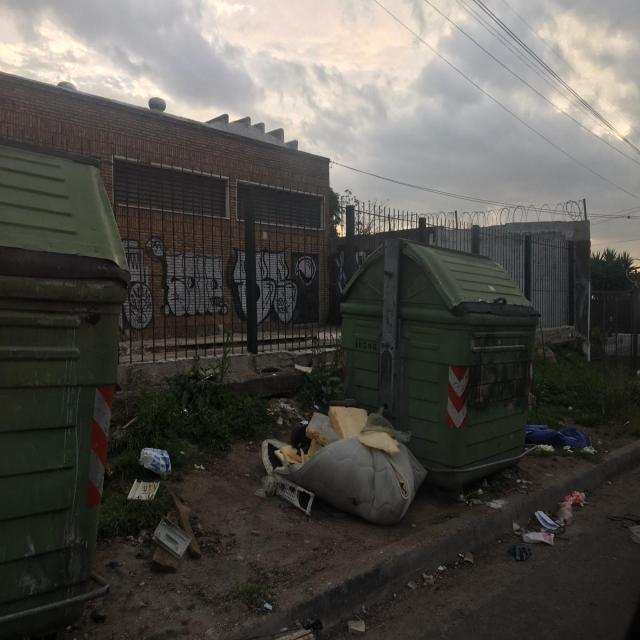garbage: (248, 387, 438, 547), (505, 402, 586, 586), (138, 425, 206, 604)
